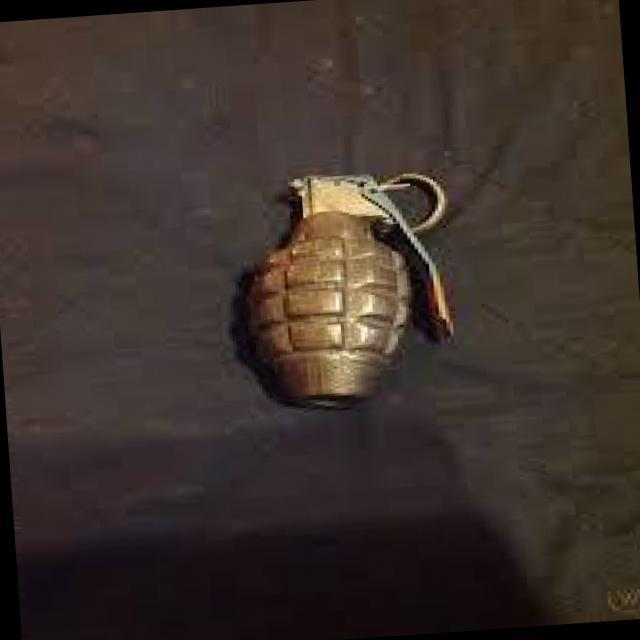grenade: (231, 142, 457, 428)
